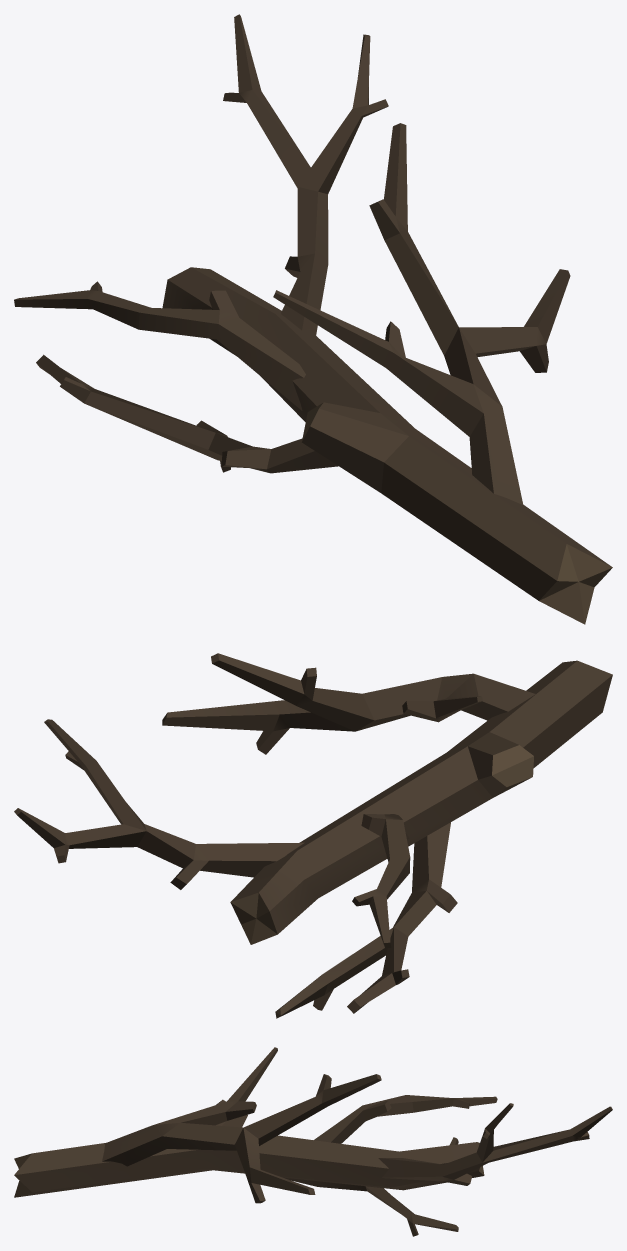
The model's file is synty-tree-branch-01.gltf.
The picture shows the model from 3 angles, top to bottom: view 1: azimuth 30°, elevation 25°; view 2: azimuth 150°, elevation 25°; view 3: azimuth 270°, elevation 25°; orthographic projection. The views are drawn at different scales.
Visible parts, largest first — view 1: SM_Tree_Branch_01; view 2: SM_Tree_Branch_01; view 3: SM_Tree_Branch_01.
Part boxes in pixels (x1,y1,x2,y2): SM_Tree_Branch_01: (14, 14, 612, 624); SM_Tree_Branch_01: (14, 653, 612, 1018); SM_Tree_Branch_01: (14, 1047, 612, 1236).
Size of the model in its own units: 1.3 by 1.04 by 2.74.
Materials: 1 (1 with a texture image).
